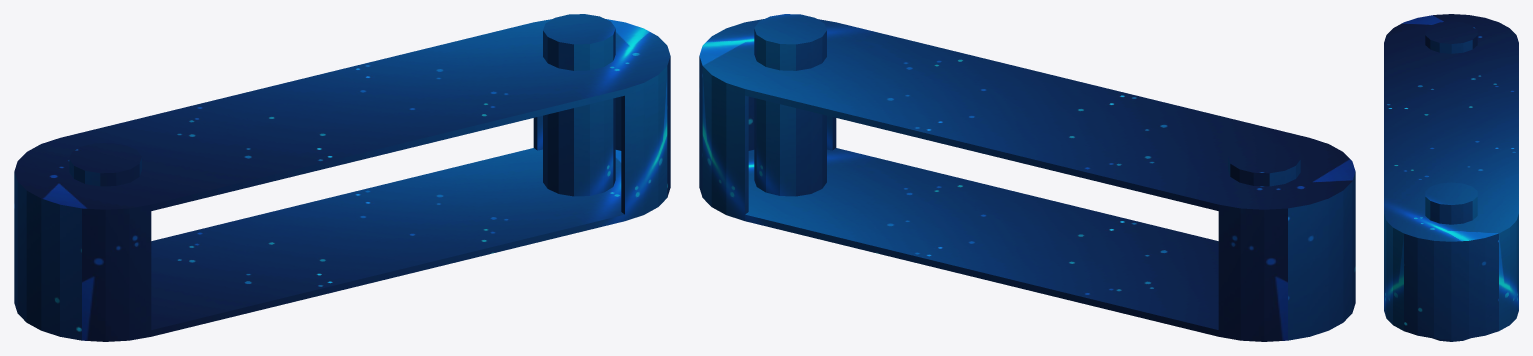
The picture shows the model from 3 angles, left to right: view 1: azimuth 30°, elevation 25°; view 2: azimuth 150°, elevation 25°; view 3: azimuth 270°, elevation 25°; orthographic projection. The views are drawn at different scales.
Visible parts, largest first — view 1: Link2; view 2: Link2; view 3: Link2.
Part boxes in pixels (x1=…): Link2: x1=14, y1=14, x2=670, y2=341; Link2: x1=699, y1=14, x2=1355, y2=341; Link2: x1=1384, y1=14, x2=1518, y2=341.
Bounding box in the file's own units: 1 × 0.25 × 0.28.
Materials: 1 (1 with a texture image).
